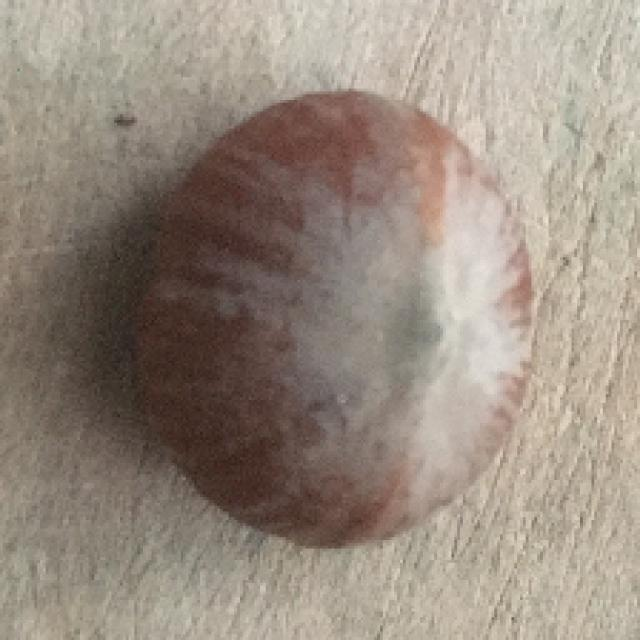qualityHazelnut: (139, 88, 537, 547)
